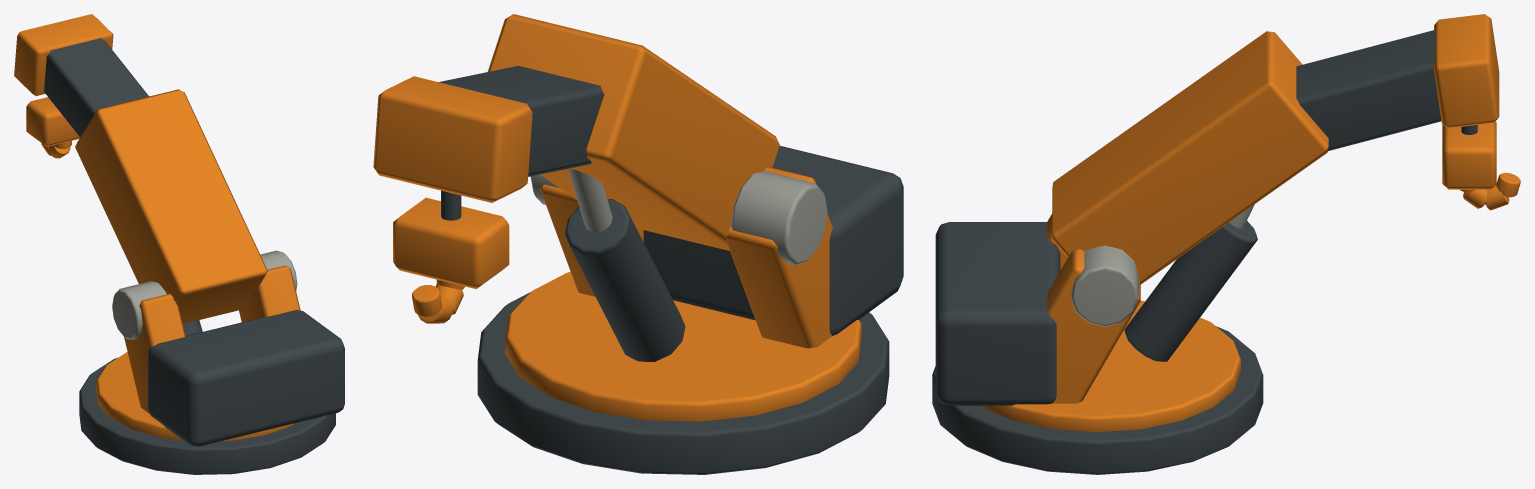
Rendered from military-truck-crane.glb.
3 views of the same model, side by side, from view 1: azimuth 30°, elevation 25°; view 2: azimuth 150°, elevation 25°; view 3: azimuth 270°, elevation 25° (orthographic). The views are drawn at different scales.
Parts seen in each view (by area): view 1: TurretShell; view 2: TurretShell; view 3: TurretShell.
Boxes of the visible parts, x1,y1,x2,y2 form: TurretShell: [14, 14, 344, 474]; TurretShell: [373, 14, 903, 474]; TurretShell: [932, 14, 1520, 474].
Size of the model in its own units: 0.73 by 0.9016 by 1.3.
